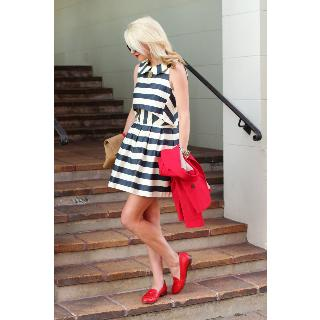loafers: (167, 250, 193, 296), (140, 278, 168, 306)
